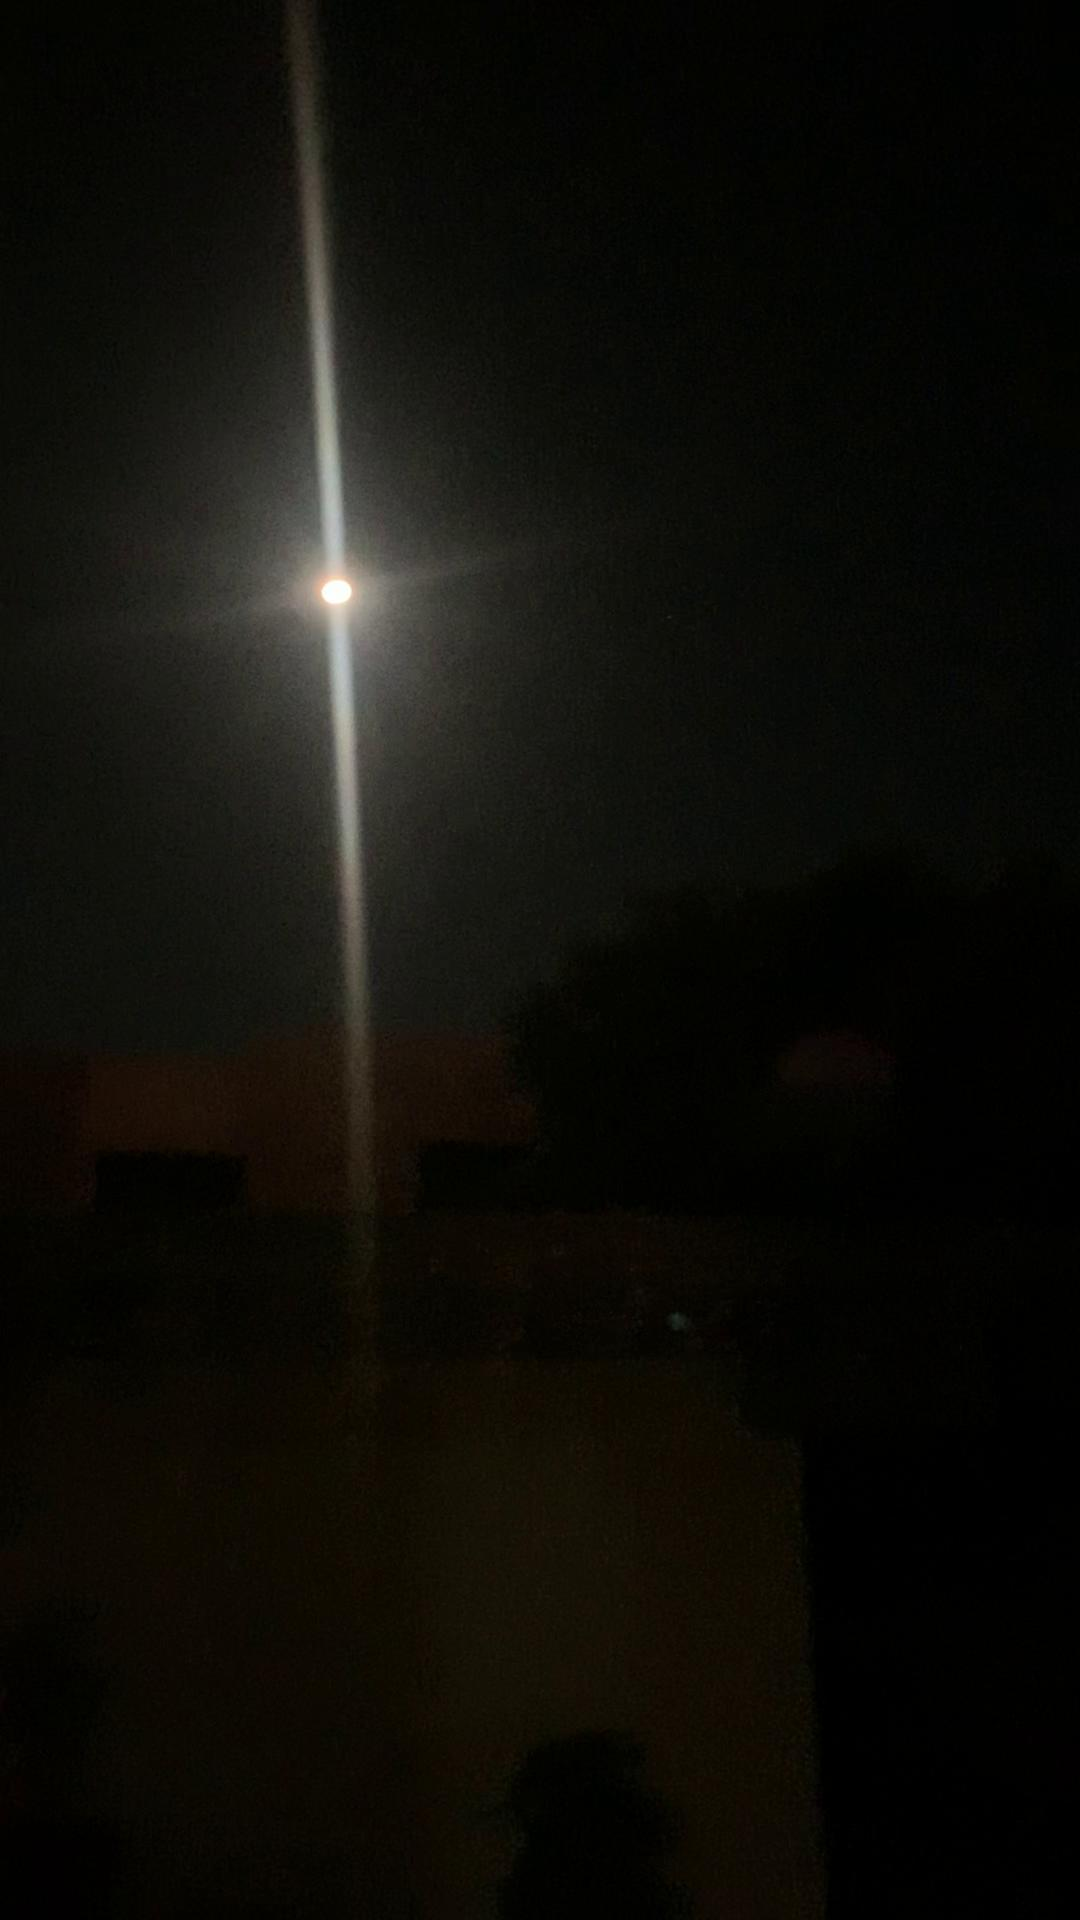moon: (307, 538, 382, 617)
